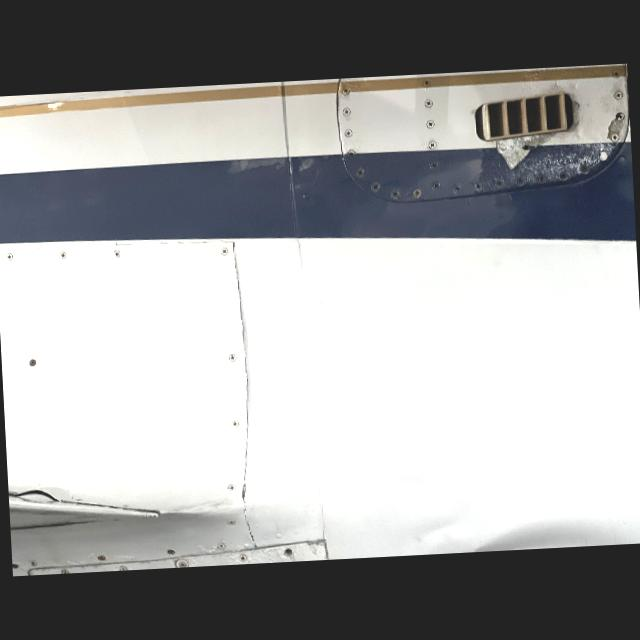Missing Fastener: (278, 546, 298, 560)
dent: (396, 495, 640, 556)
